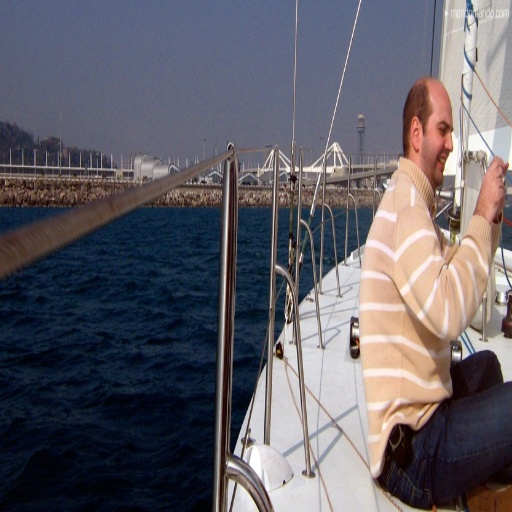hand: (493, 158, 508, 218)
